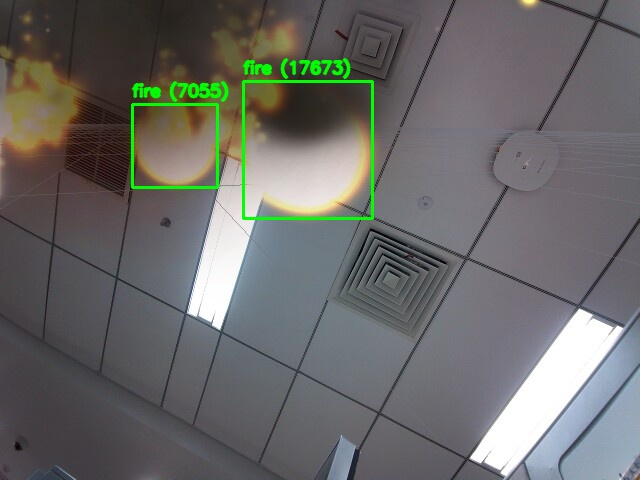fire: (243, 81, 372, 218), (132, 104, 217, 187)
